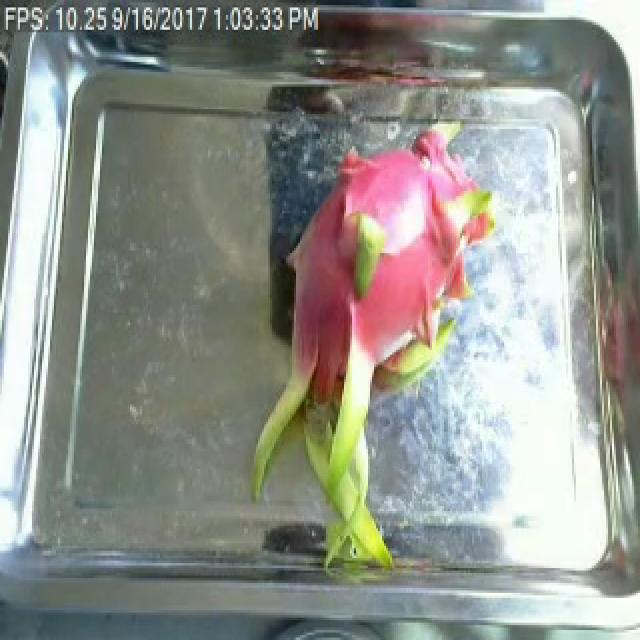fruit: (228, 139, 488, 568)
